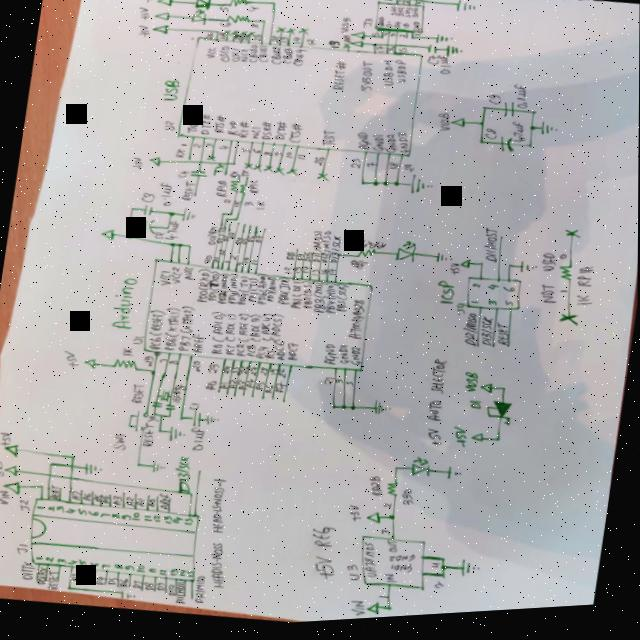capacitor: (496, 142, 516, 161), (500, 107, 516, 126), (141, 220, 157, 238), (189, 414, 203, 431), (189, 171, 208, 182), (140, 206, 154, 220), (424, 49, 436, 61), (162, 405, 176, 415), (150, 403, 162, 411)
crossover: (46, 473, 53, 480), (67, 476, 74, 482), (196, 162, 204, 167), (223, 164, 229, 170), (383, 48, 387, 53), (391, 49, 395, 53)
diode: (482, 405, 514, 435), (393, 243, 418, 271), (407, 461, 432, 486), (186, 10, 208, 30), (191, 0, 213, 13)
ground: (406, 178, 435, 203), (459, 564, 481, 586), (453, 4, 476, 21), (371, 404, 391, 423), (537, 127, 558, 145), (517, 266, 538, 283), (166, 428, 184, 447), (82, 464, 103, 480), (445, 471, 463, 488), (180, 209, 197, 227), (444, 49, 462, 64), (149, 463, 166, 477), (434, 258, 452, 271), (434, 39, 452, 52), (204, 417, 220, 430), (119, 592, 136, 603)
junction: (63, 584, 73, 593), (527, 130, 536, 139), (380, 185, 390, 193), (124, 235, 133, 243), (387, 519, 396, 527), (126, 222, 135, 230), (126, 208, 135, 216), (528, 116, 537, 124), (176, 417, 185, 425), (268, 3, 277, 11), (498, 392, 508, 399), (357, 184, 365, 192), (391, 185, 399, 193), (187, 493, 195, 501), (384, 610, 393, 617), (369, 185, 378, 192), (339, 408, 348, 415), (167, 213, 176, 220), (149, 370, 158, 377), (438, 570, 447, 577), (493, 443, 501, 450), (134, 464, 142, 471), (477, 127, 485, 134), (439, 579, 447, 586), (438, 562, 446, 569), (259, 22, 267, 29), (66, 465, 75, 471), (68, 455, 75, 462), (348, 409, 355, 416), (477, 145, 484, 152), (391, 471, 399, 477), (525, 151, 532, 157), (38, 485, 45, 491), (47, 463, 53, 469), (168, 245, 174, 251), (370, 47, 376, 53), (480, 112, 486, 118), (334, 256, 340, 262), (185, 247, 192, 252), (505, 270, 511, 275), (329, 409, 335, 414), (478, 268, 484, 273), (408, 41, 414, 46), (219, 214, 224, 220), (232, 220, 238, 225), (176, 245, 182, 250), (230, 165, 236, 170), (166, 416, 172, 421), (378, 41, 384, 46), (227, 215, 232, 220), (165, 228, 170, 233), (223, 220, 227, 225), (151, 415, 156, 419), (394, 1, 398, 5), (158, 417, 162, 420), (400, 2, 404, 5), (407, 3, 411, 6), (413, 4, 417, 7)
resistor: (110, 359, 139, 374), (223, 16, 249, 30), (556, 271, 574, 289), (383, 486, 400, 503), (352, 253, 375, 265), (226, 0, 247, 12), (227, 183, 239, 197), (238, 187, 247, 198)
source: (0, 479, 22, 497), (2, 442, 19, 459), (97, 229, 115, 244), (447, 122, 465, 137), (364, 515, 382, 530), (2, 464, 19, 479), (150, 25, 169, 38), (478, 387, 494, 402), (365, 606, 381, 621), (81, 359, 96, 372), (152, 13, 169, 24), (147, 158, 161, 171), (154, 0, 172, 10), (470, 438, 484, 450), (349, 35, 364, 45), (459, 264, 471, 276), (348, 45, 362, 53)
switch: (125, 413, 148, 435)
terminal: (556, 318, 579, 334), (561, 236, 580, 247)
text: (196, 480, 240, 595), (420, 361, 450, 442), (107, 276, 138, 334), (159, 308, 182, 358), (142, 312, 166, 357), (263, 316, 283, 366), (205, 315, 226, 362), (254, 316, 273, 365), (232, 316, 251, 362), (346, 304, 366, 346), (171, 458, 192, 498), (479, 233, 501, 270), (458, 318, 480, 355), (358, 546, 380, 583), (244, 317, 261, 363), (310, 558, 337, 586), (309, 528, 337, 554), (475, 321, 495, 356), (433, 284, 456, 314), (177, 308, 195, 346), (355, 65, 375, 99), (222, 316, 237, 360), (328, 64, 347, 97), (190, 575, 208, 609), (509, 89, 530, 117), (308, 233, 324, 269), (194, 271, 210, 306), (323, 285, 338, 321), (297, 283, 314, 314), (492, 328, 511, 355), (222, 277, 238, 309), (233, 279, 249, 311), (377, 65, 395, 93), (160, 81, 180, 106), (507, 127, 527, 152), (352, 242, 385, 257), (311, 286, 326, 319), (392, 64, 409, 93), (536, 290, 557, 313), (275, 280, 291, 310), (288, 283, 303, 315), (334, 288, 350, 318), (206, 273, 220, 306), (213, 276, 227, 309), (352, 135, 372, 158), (155, 269, 175, 292), (156, 183, 173, 210), (450, 432, 469, 456), (16, 560, 35, 584), (318, 235, 331, 270), (365, 480, 383, 505), (188, 334, 206, 359), (189, 431, 206, 457), (327, 239, 341, 269), (264, 280, 279, 308), (128, 384, 145, 408), (254, 277, 266, 311), (386, 556, 415, 570), (196, 115, 212, 140), (176, 330, 192, 355), (461, 377, 479, 399), (244, 280, 258, 308), (321, 347, 338, 370), (179, 184, 196, 207), (398, 492, 415, 514), (164, 268, 181, 290), (343, 567, 362, 586), (395, 136, 410, 160), (173, 584, 188, 608), (62, 350, 79, 371), (435, 62, 452, 83), (289, 51, 306, 72), (335, 349, 351, 371), (272, 124, 287, 147), (347, 604, 365, 623), (538, 260, 555, 280), (319, 133, 336, 153), (346, 507, 362, 528), (435, 117, 451, 138), (210, 116, 225, 138), (286, 126, 301, 148), (347, 350, 362, 372), (34, 565, 49, 587), (388, 567, 413, 580), (156, 494, 172, 514), (258, 124, 273, 145), (141, 426, 154, 450), (212, 181, 226, 203), (110, 435, 126, 454), (204, 229, 219, 249), (244, 47, 258, 68), (574, 300, 593, 315), (370, 138, 384, 158), (285, 346, 299, 366), (348, 263, 368, 277), (236, 124, 250, 144), (134, 7, 150, 24), (138, 193, 156, 208), (574, 282, 593, 296), (45, 573, 59, 592), (164, 223, 178, 242), (337, 21, 351, 40), (216, 48, 230, 67), (173, 145, 187, 163), (225, 123, 239, 141), (269, 51, 282, 70), (274, 344, 285, 366), (384, 139, 396, 159), (183, 122, 198, 138), (135, 26, 151, 41), (257, 47, 269, 67), (180, 268, 194, 285), (246, 181, 260, 198), (160, 121, 175, 136), (129, 158, 144, 173), (17, 498, 32, 513), (130, 334, 145, 349), (48, 485, 61, 502), (200, 382, 217, 395), (280, 52, 293, 69), (482, 134, 496, 149), (453, 308, 467, 323), (446, 268, 460, 283), (424, 60, 440, 73), (467, 404, 483, 417), (485, 100, 501, 113), (347, 162, 361, 176), (141, 356, 155, 370), (384, 546, 399, 559), (228, 51, 241, 66), (0, 430, 11, 447), (0, 489, 11, 506), (577, 272, 594, 283), (203, 49, 216, 63), (14, 544, 29, 556), (321, 381, 339, 391), (215, 229, 225, 247), (273, 386, 288, 398), (237, 52, 249, 67), (249, 129, 261, 144), (190, 362, 203, 375), (261, 387, 274, 400), (253, 383, 265, 396), (486, 289, 500, 300), (205, 367, 220, 377), (382, 578, 395, 589), (400, 168, 413, 179), (82, 576, 95, 587), (94, 577, 107, 588), (120, 349, 133, 360), (245, 8, 259, 18), (326, 44, 340, 54), (175, 172, 189, 182), (501, 292, 516, 301), (254, 203, 265, 215), (211, 167, 223, 178), (166, 587, 177, 599), (70, 491, 81, 503), (125, 498, 136, 510), (111, 497, 123, 508), (410, 26, 421, 38), (235, 383, 246, 395), (244, 381, 255, 393), (167, 361, 181, 370), (118, 579, 129, 590), (146, 500, 157, 511), (360, 23, 371, 34), (247, 369, 258, 380), (187, 405, 199, 415), (131, 582, 143, 592), (76, 508, 88, 518), (171, 518, 183, 528), (134, 500, 146, 510), (227, 173, 239, 183), (153, 233, 165, 243), (227, 381, 237, 393), (118, 515, 131, 524), (375, 21, 384, 34), (402, 12, 411, 25), (302, 255, 311, 268), (432, 586, 443, 596), (364, 165, 375, 175), (381, 506, 392, 516), (161, 517, 172, 527), (182, 519, 193, 529), (91, 495, 102, 505), (387, 11, 397, 22), (219, 369, 230, 379), (311, 161, 323, 170), (106, 578, 118, 587), (429, 566, 441, 575), (304, 42, 316, 51), (395, 12, 404, 24), (217, 24, 230, 32), (216, 9, 229, 17), (155, 359, 168, 367), (55, 505, 65, 515), (131, 514, 141, 524), (151, 516, 161, 526), (269, 38, 279, 48), (231, 369, 241, 379), (277, 371, 287, 381), (379, 533, 390, 542), (282, 154, 293, 163), (70, 575, 81, 584), (216, 146, 227, 155), (386, 167, 397, 176), (143, 584, 154, 593), (155, 585, 166, 594), (135, 567, 146, 576), (81, 494, 92, 503), (202, 35, 213, 44), (290, 40, 301, 49), (340, 40, 351, 49), (409, 14, 418, 25), (203, 257, 212, 268), (281, 270, 292, 279), (283, 255, 294, 264), (259, 370, 268, 381), (217, 385, 228, 394), (138, 0, 152, 7), (145, 418, 159, 425), (486, 306, 498, 314), (294, 157, 306, 165), (64, 509, 77, 516), (178, 571, 187, 581), (101, 497, 111, 506), (216, 34, 225, 44), (232, 37, 241, 47), (251, 37, 261, 46), (217, 251, 226, 261), (254, 238, 263, 248), (294, 257, 303, 267), (237, 369, 247, 378), (112, 565, 123, 573), (100, 565, 111, 573), (56, 559, 67, 567), (503, 306, 514, 314), (142, 517, 153, 525), (269, 155, 281, 162), (376, 599, 390, 605), (87, 512, 99, 519), (99, 514, 111, 521), (380, 1, 392, 8), (169, 570, 178, 579), (232, 203, 241, 212), (392, 26, 401, 35), (239, 240, 248, 249), (227, 234, 236, 243), (300, 270, 309, 279), (310, 273, 319, 282), (268, 372, 277, 381), (77, 560, 87, 568), (110, 514, 120, 522), (239, 173, 249, 181), (248, 26, 258, 34), (245, 239, 255, 247), (233, 239, 241, 249), (124, 567, 135, 574), (43, 557, 54, 564), (470, 289, 481, 296), (239, 150, 250, 157), (242, 204, 253, 211), (396, 52, 407, 59), (325, 274, 336, 281), (66, 561, 78, 567), (240, 38, 249, 46), (383, 26, 392, 34), (228, 257, 237, 265), (240, 260, 249, 268), (158, 572, 168, 579), (148, 569, 158, 576), (557, 261, 567, 268), (250, 151, 260, 158), (344, 385, 354, 392), (249, 262, 259, 269), (375, 51, 385, 58), (368, 37, 379, 43), (401, 27, 409, 35), (211, 259, 219, 267), (46, 506, 55, 513), (222, 201, 231, 208), (278, 41, 287, 48), (334, 382, 343, 389), (385, 52, 394, 59), (291, 271, 300, 278), (318, 273, 327, 280), (89, 563, 99, 569), (469, 306, 479, 312), (0, 459, 3, 478), (222, 238, 229, 246), (261, 155, 272, 160), (414, 6, 423, 12), (234, 265, 243, 271), (558, 296, 568, 301), (36, 506, 46, 511), (192, 147, 202, 152), (34, 557, 43, 562), (204, 146, 213, 151), (401, 4, 408, 10), (395, 4, 402, 10), (380, 37, 388, 42), (398, 39, 405, 44), (223, 263, 230, 268), (389, 38, 395, 43), (156, 431, 162, 436)
